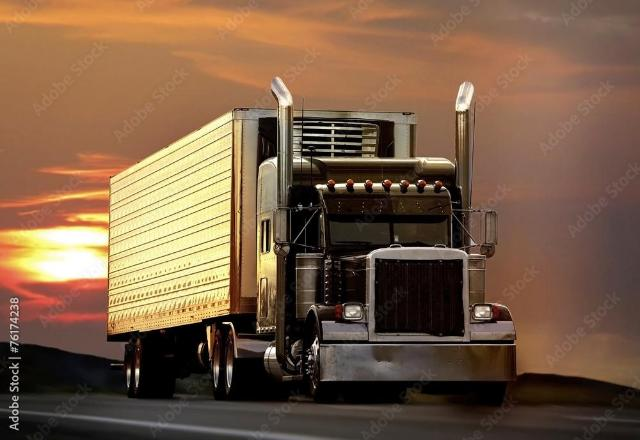truck: (83, 66, 537, 391)
